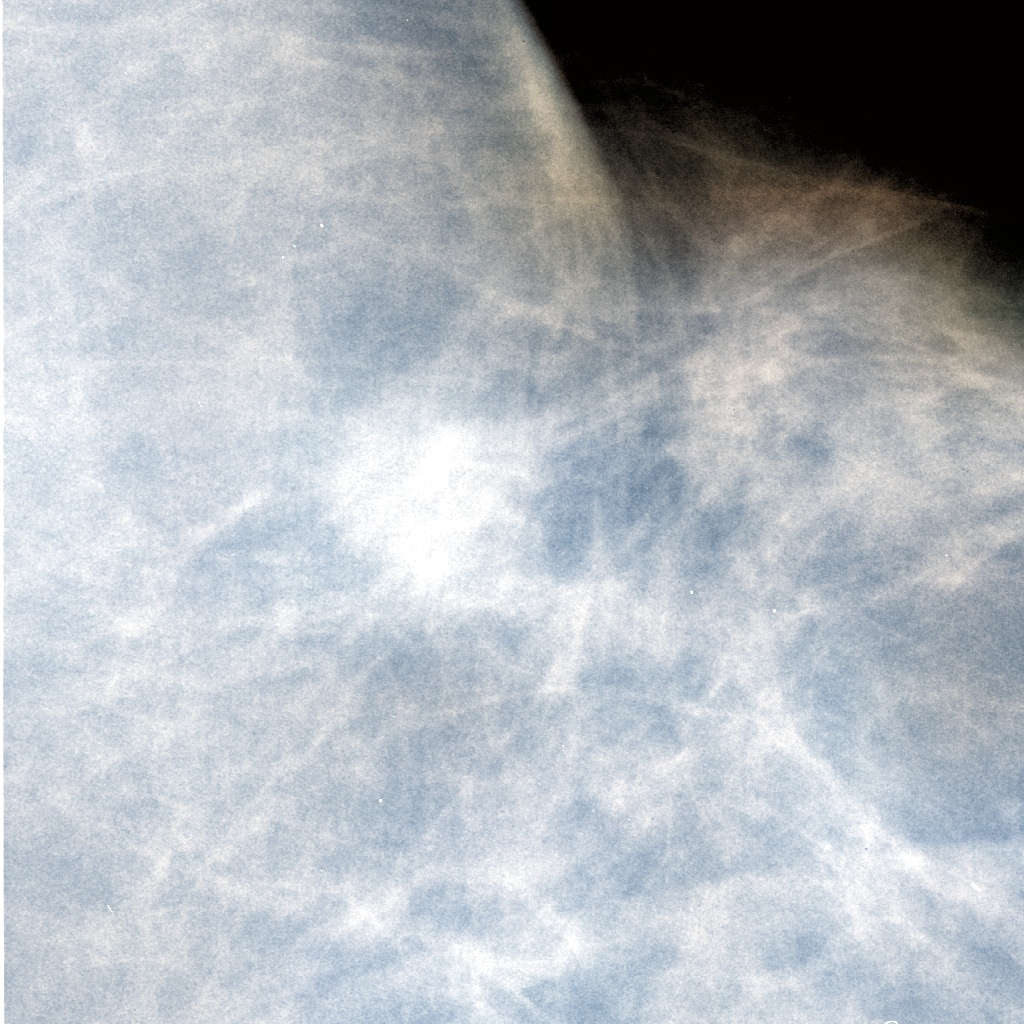tumor: (334, 379, 550, 645)
